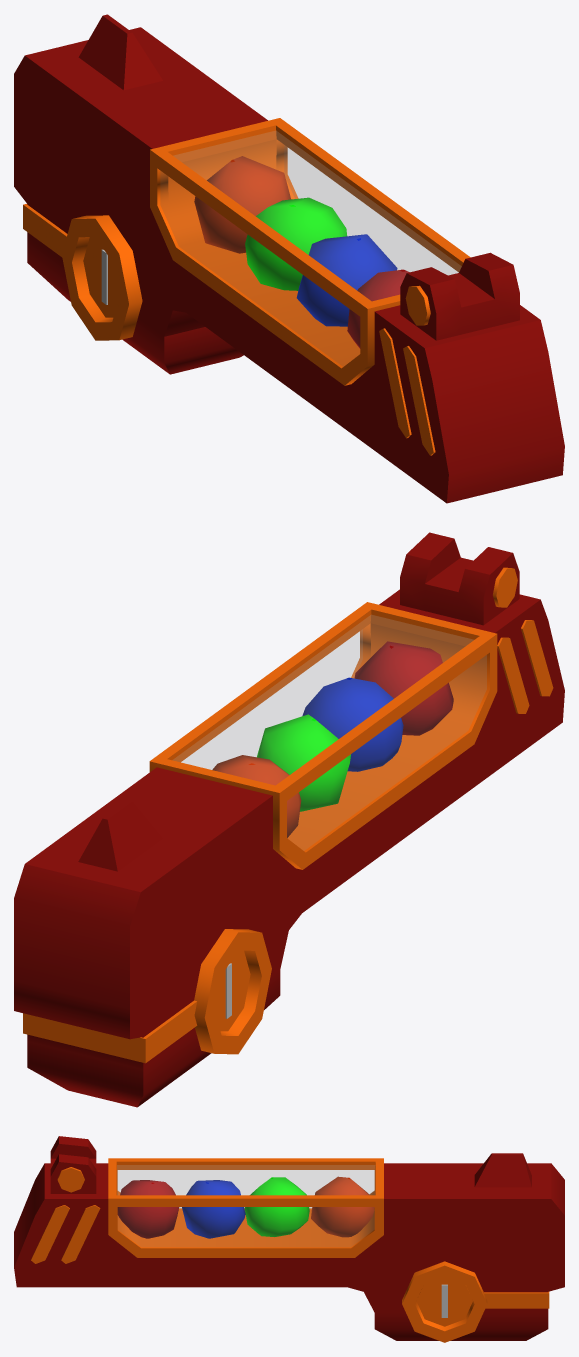
File: Bubble Handgun Slide.obj
3 views of the same model, one above another, from view 1: azimuth 30°, elevation 25°; view 2: azimuth 150°, elevation 25°; view 3: azimuth 270°, elevation 25° (orthographic). The views are drawn at different scales.
Parts seen in each view (by area): view 1: Meshpart2, Meshpart3, Meshpart7, Meshpart1, Meshpart6, Meshpart5, Meshpart8; view 2: Meshpart2, Meshpart3, Meshpart7, Meshpart5, Meshpart8, Meshpart1, Meshpart6; view 3: Meshpart2, Meshpart3, Meshpart7, Meshpart5, Meshpart1, Meshpart8, Meshpart6.
Boxes of the visible parts, bbox=[...] form: Meshpart2: bbox=[14, 14, 564, 503]; Meshpart3: bbox=[23, 118, 470, 455]; Meshpart7: bbox=[161, 131, 461, 366]; Meshpart1: bbox=[245, 197, 347, 290]; Meshpart6: bbox=[194, 156, 291, 253]; Meshpart5: bbox=[296, 234, 397, 326]; Meshpart8: bbox=[347, 269, 409, 348]; Meshpart2: bbox=[14, 532, 564, 1107]; Meshpart3: bbox=[23, 567, 553, 1063]; Meshpart7: bbox=[174, 615, 486, 850]; Meshpart5: bbox=[302, 677, 403, 771]; Meshpart8: bbox=[354, 641, 453, 735]; Meshpart1: bbox=[257, 714, 350, 811]; Meshpart6: bbox=[212, 755, 301, 837]; Meshpart2: bbox=[14, 1136, 564, 1340]; Meshpart3: bbox=[31, 1158, 549, 1342]; Meshpart7: bbox=[117, 1165, 374, 1246]; Meshpart5: bbox=[182, 1180, 245, 1238]; Meshpart1: bbox=[244, 1177, 309, 1236]; Meshpart8: bbox=[117, 1180, 179, 1238]; Meshpart6: bbox=[311, 1176, 374, 1237].
Bounding box in the file's own units: 0.395 × 0.7544 × 2.08.
